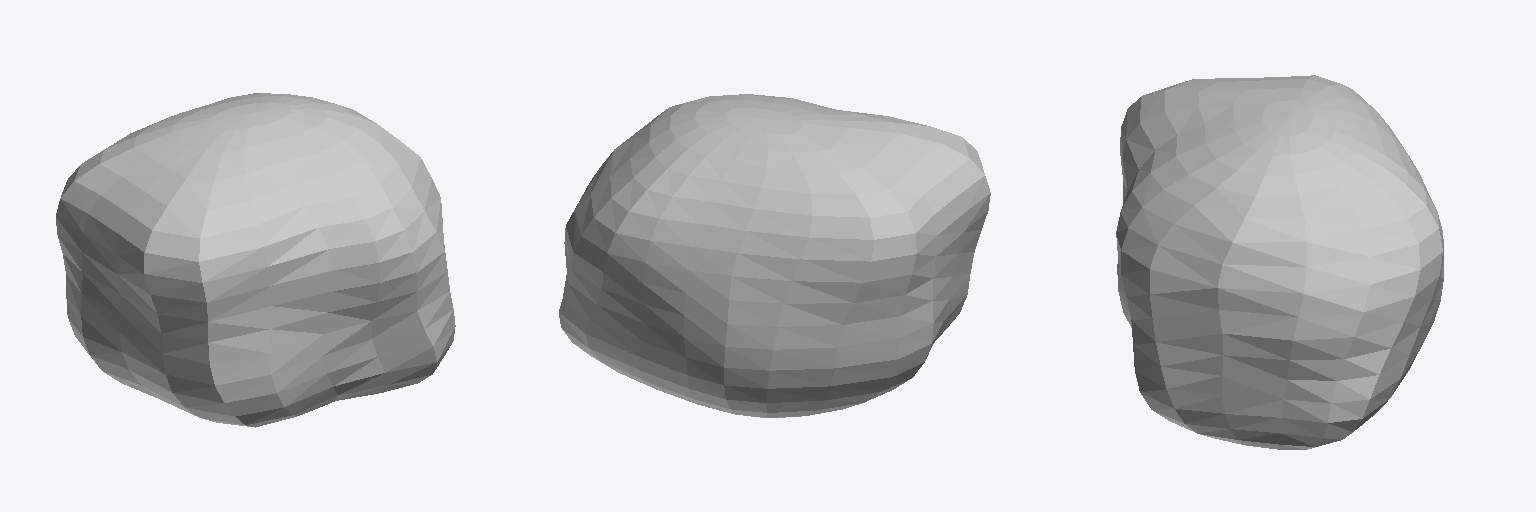
The model's file is rock.obj.
3 views of the same model, side by side, from view 1: azimuth 30°, elevation 25°; view 2: azimuth 150°, elevation 25°; view 3: azimuth 270°, elevation 25° (orthographic).
Visible parts, largest first — view 1: Rock18; view 2: Rock18; view 3: Rock18.
Boxes of the visible parts, <box> form: Rock18: <box>56,93,455,427</box>; Rock18: <box>559,94,990,417</box>; Rock18: <box>1116,75,1443,449</box>.
Size of the model in its own units: 5.57 by 4.26 by 4.53.